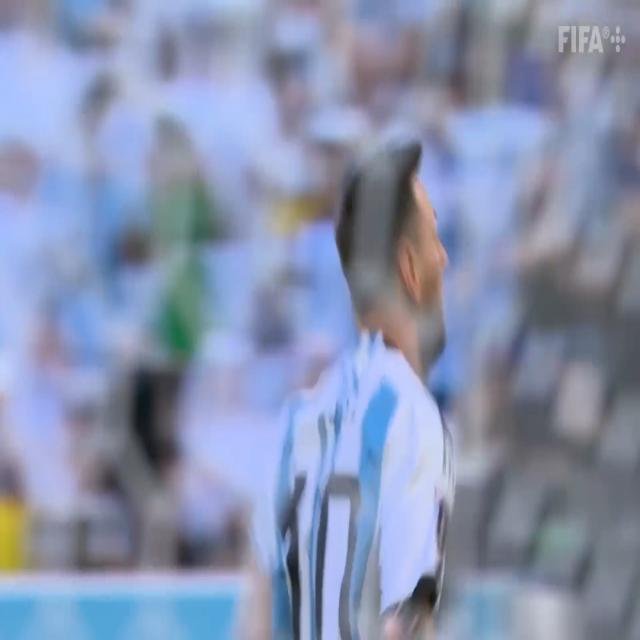player: (277, 134, 481, 640)
